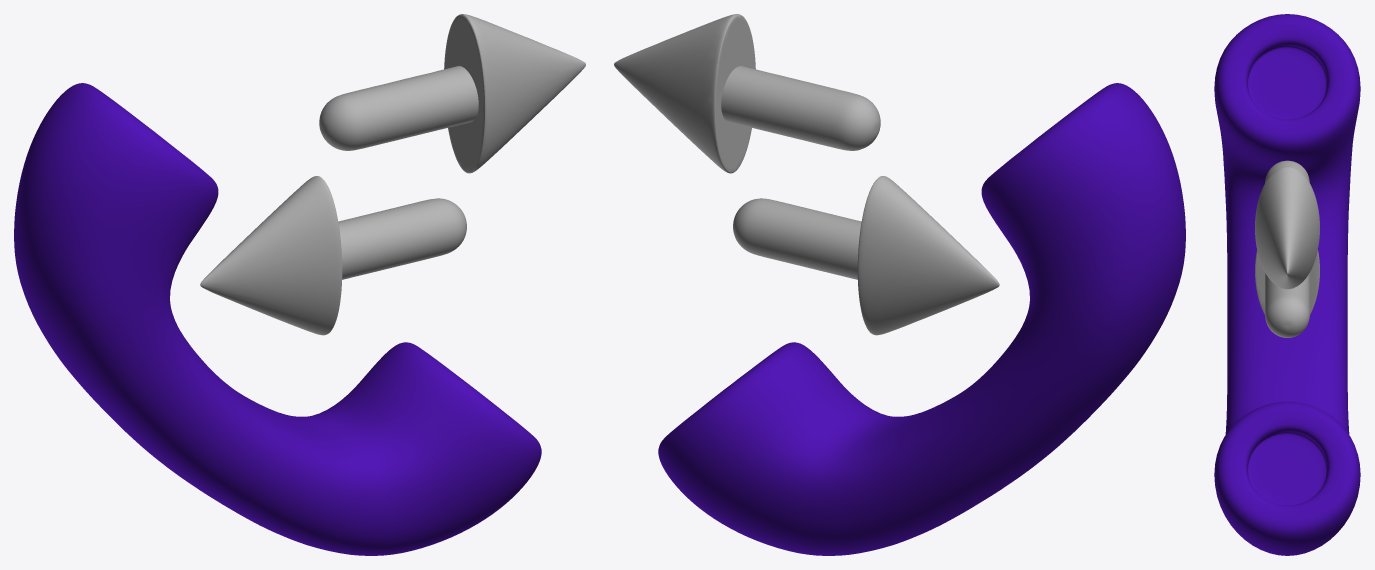
File: call-missed.glb
The picture shows the model from 3 angles, left to right: view 1: azimuth 30°, elevation 25°; view 2: azimuth 150°, elevation 25°; view 3: azimuth 270°, elevation 25°; orthographic projection. The views are drawn at different scales.
Visible parts, largest first — view 1: Phone Miss; view 2: Phone Miss; view 3: Phone Miss.
Part boxes in pixels (x1,y1,x2,y2): Phone Miss: [14, 14, 585, 555]; Phone Miss: [614, 14, 1185, 555]; Phone Miss: [1214, 14, 1360, 555].
Bounding box in the file's own units: 1.98 × 1.77 × 0.5744.
